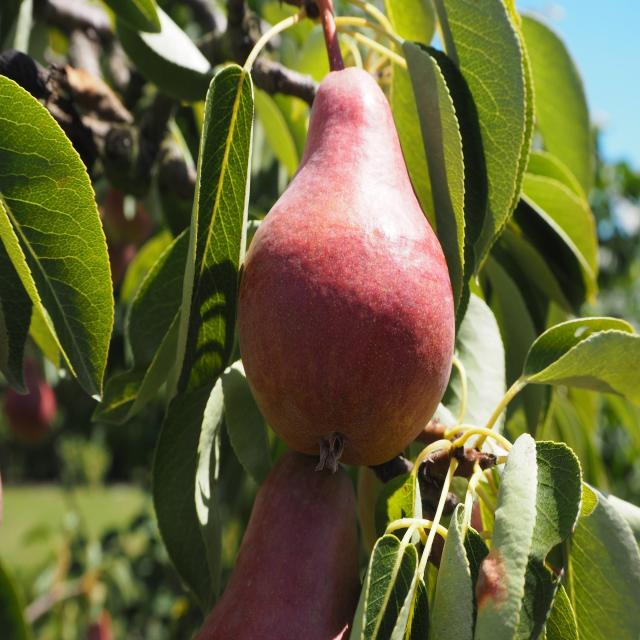paer: (218, 78, 485, 458), (182, 433, 420, 640)
